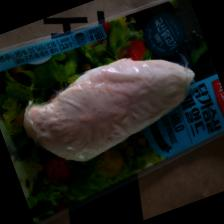chicken: (11, 35, 210, 178)
